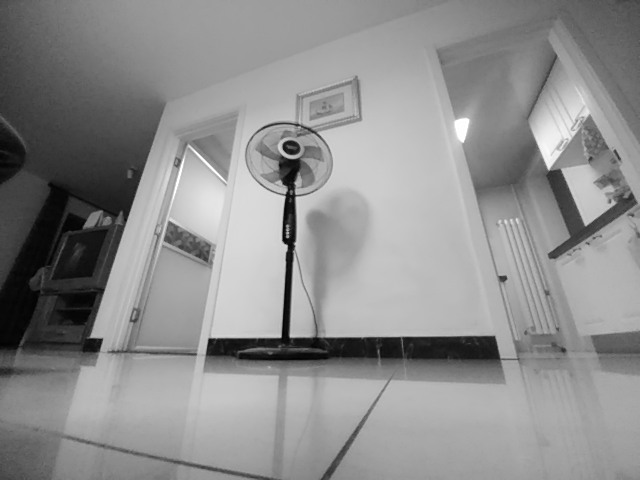bar stool: (233, 333, 331, 360)
